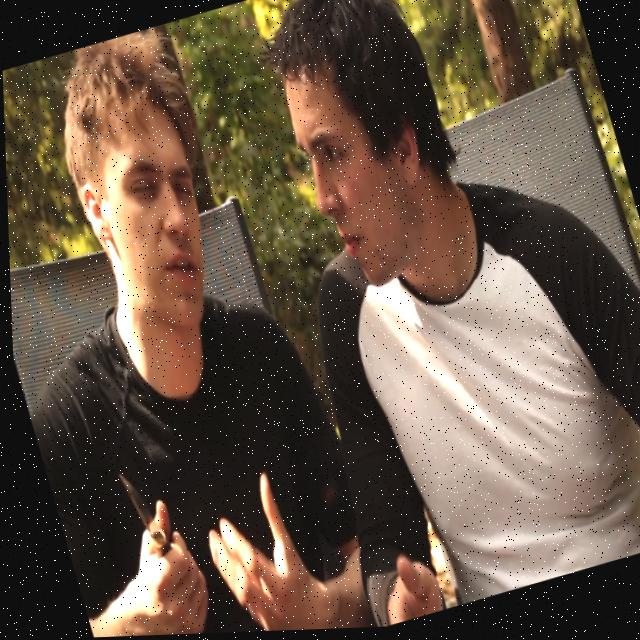knife: (105, 453, 174, 559)
